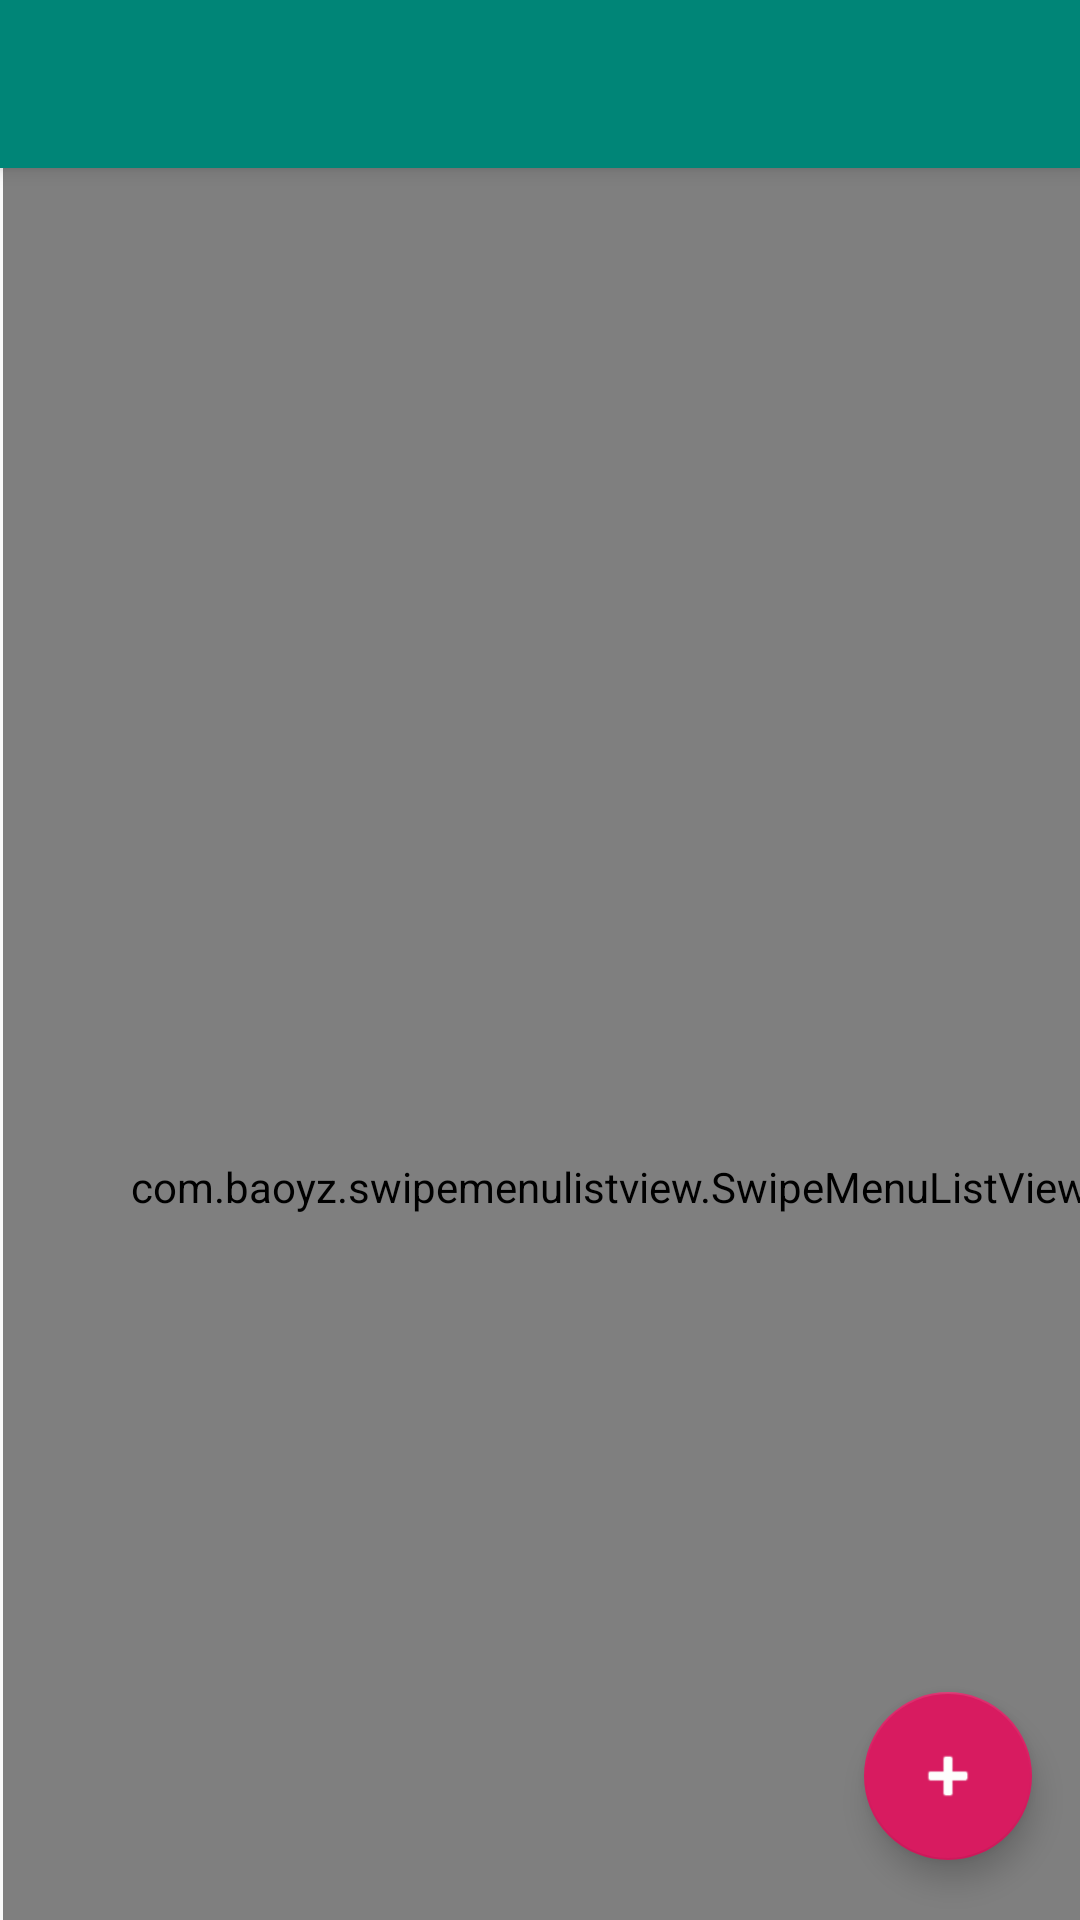

Icon bounding boxes for this 1080 × 1920 phone screenshot, format (x1, y1, x2, y2):
add: (864, 1692, 1032, 1860)
